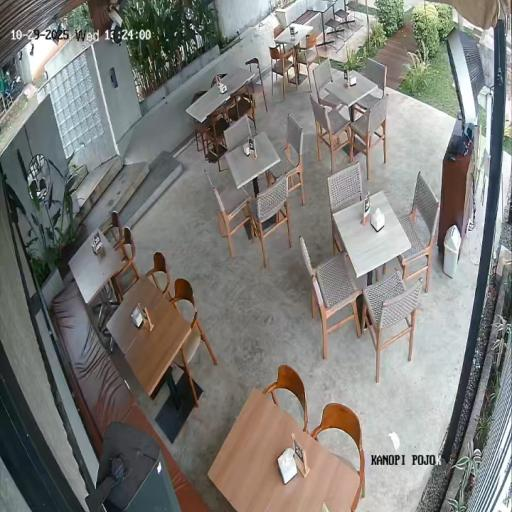Kursi: (301, 237, 361, 358), (362, 271, 422, 382), (171, 278, 217, 406), (311, 403, 364, 511), (398, 173, 440, 292), (205, 171, 250, 257), (251, 177, 292, 267), (269, 115, 305, 205), (350, 95, 388, 180), (328, 162, 362, 254), (311, 96, 351, 173), (264, 366, 307, 432), (112, 227, 140, 301), (355, 59, 386, 111), (313, 59, 342, 108), (296, 33, 319, 90), (270, 47, 293, 100), (146, 252, 172, 298), (246, 58, 268, 112), (224, 116, 252, 151), (103, 211, 123, 245), (193, 118, 209, 154)
